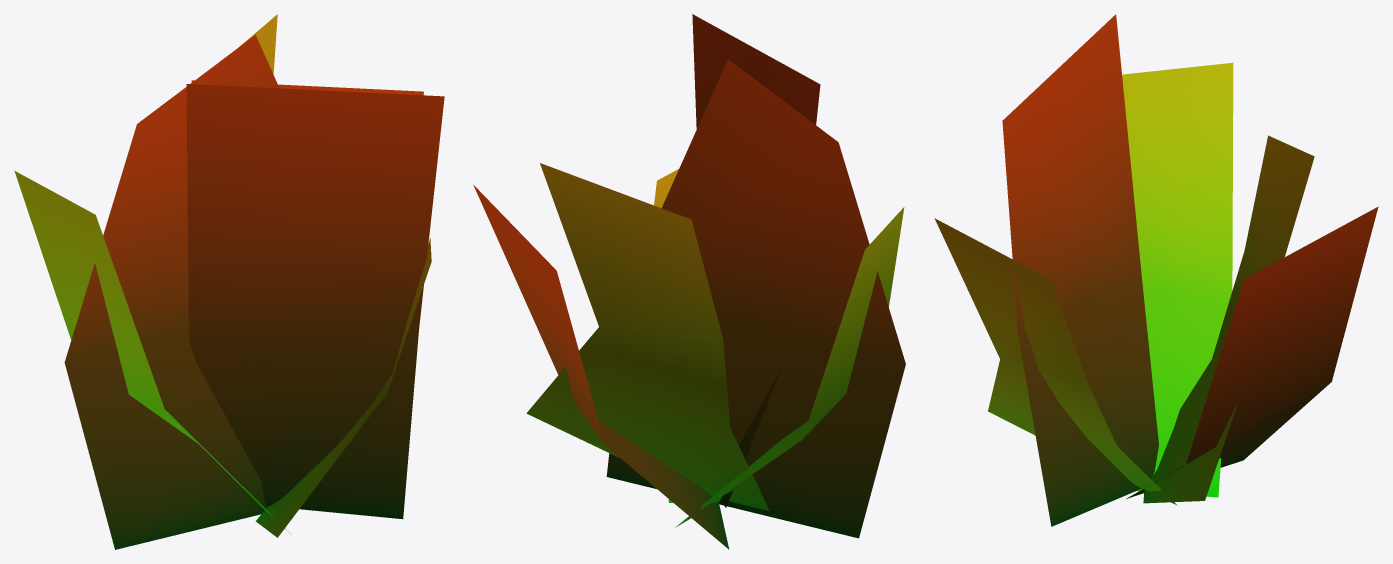
The model's file is Seaweed_LOD1_Var10_sdpjN.fbx.
The picture shows the model from 3 angles, left to right: view 1: azimuth 30°, elevation 25°; view 2: azimuth 150°, elevation 25°; view 3: azimuth 270°, elevation 25°; orthographic projection. The views are drawn at different scales.
Parts seen in each view (by area): view 1: _3be5_Var10_LOD1; view 2: _3be5_Var10_LOD1; view 3: _3be5_Var10_LOD1.
Part boxes in pixels (<box>): _3be5_Var10_LOD1: <box>14,14,444,549</box>; _3be5_Var10_LOD1: <box>473,14,905,549</box>; _3be5_Var10_LOD1: <box>934,14,1378,526</box>.
Bounding box in the file's own units: 16.78 × 18.56 × 16.47.
